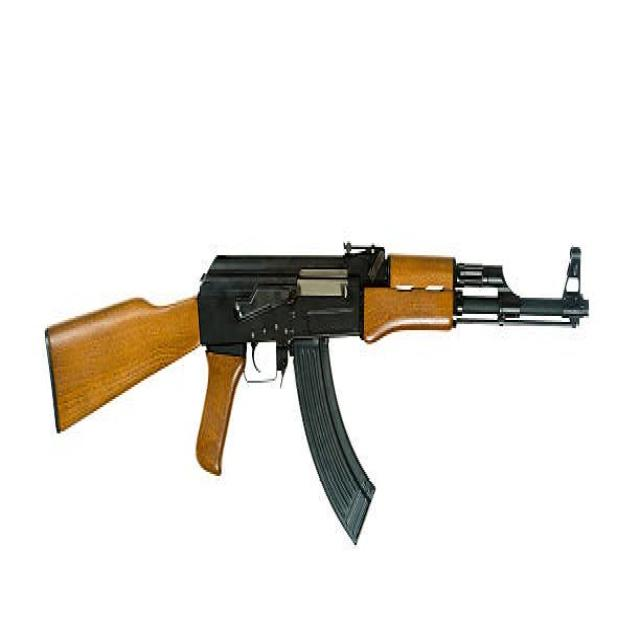rifle: (37, 227, 596, 553)
